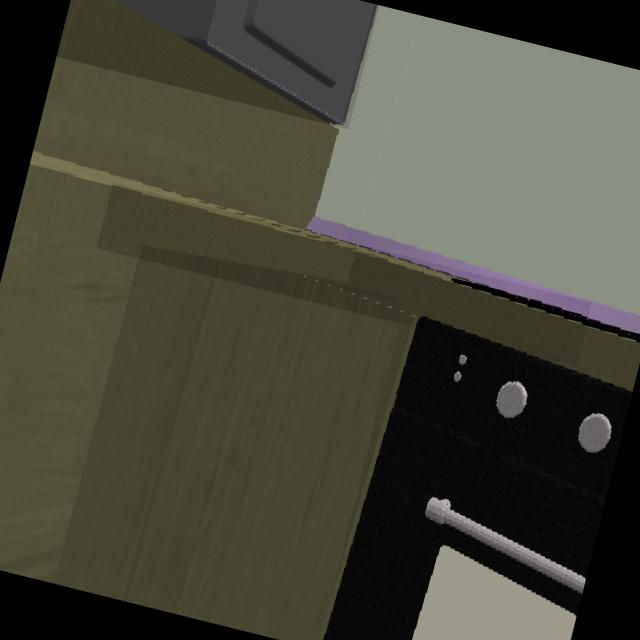countertop: (108, 193, 583, 363)
microwave: (114, 0, 379, 127)
oven: (320, 314, 640, 640)
